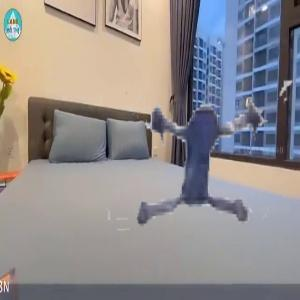drone: (102, 61, 297, 256)
